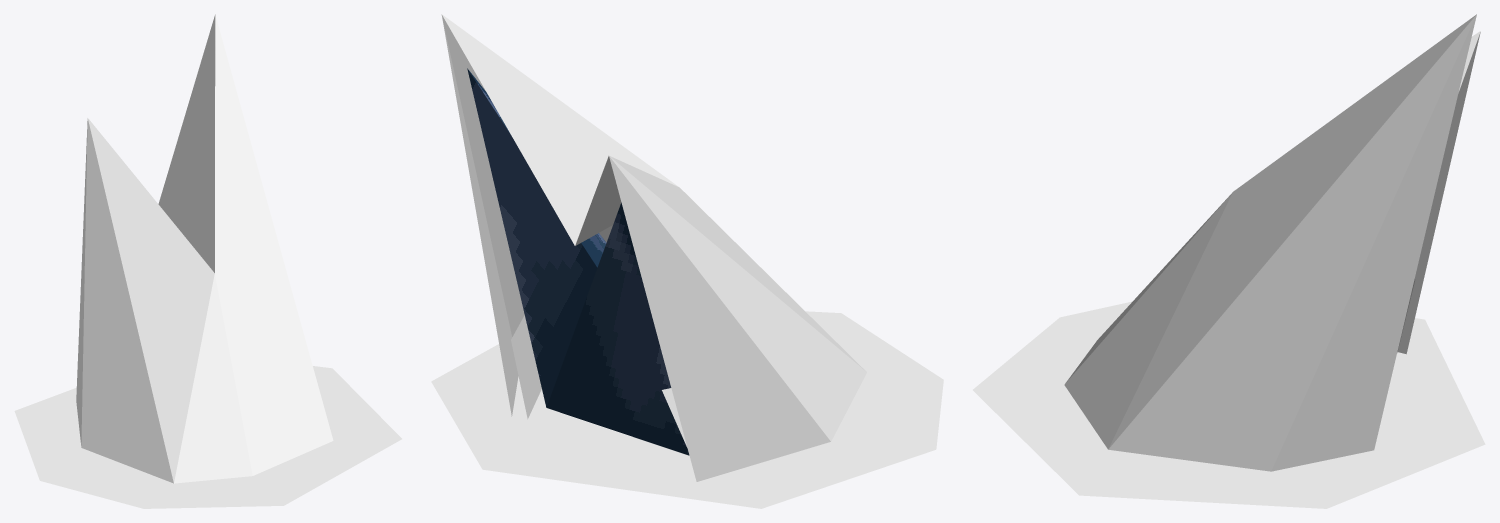
The model's file is big_icicle_3.obj.
3 views of the same model, side by side, from view 1: azimuth 30°, elevation 25°; view 2: azimuth 150°, elevation 25°; view 3: azimuth 270°, elevation 25° (orthographic). The views are drawn at different scales.
Bounding box in the file's own units: 46.24 × 43.49 × 44.64.
